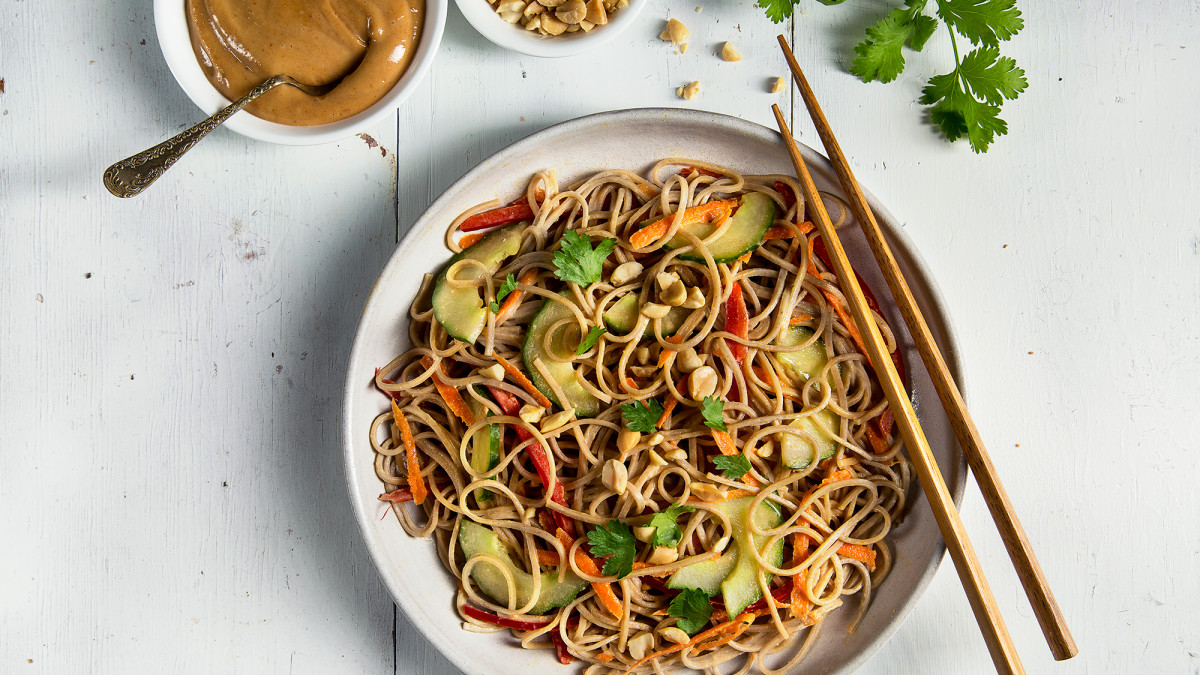Soba: (388, 160, 925, 672)
